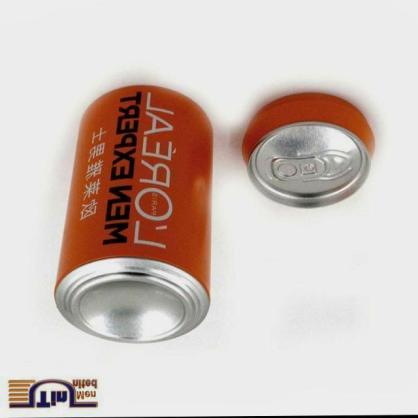can: (53, 85, 215, 347)
